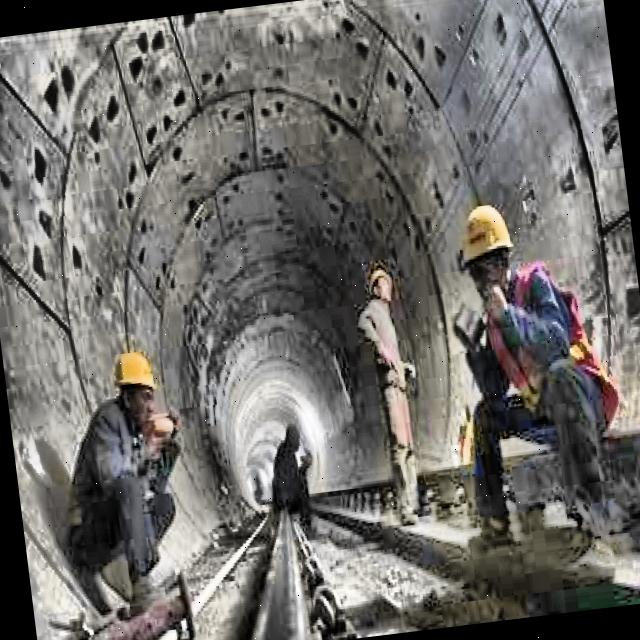helmet: (452, 194, 522, 306), (106, 339, 164, 432), (358, 260, 399, 314)
